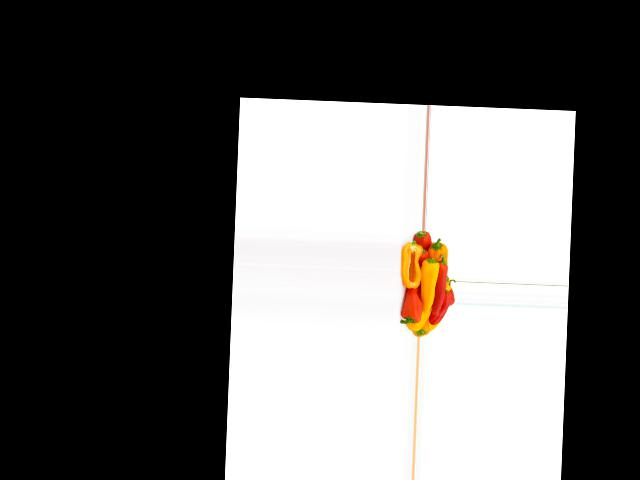bell_pepper: (413, 230, 435, 261)
